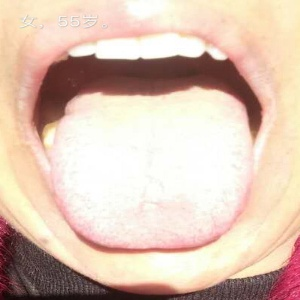st: (56, 107, 255, 254)
